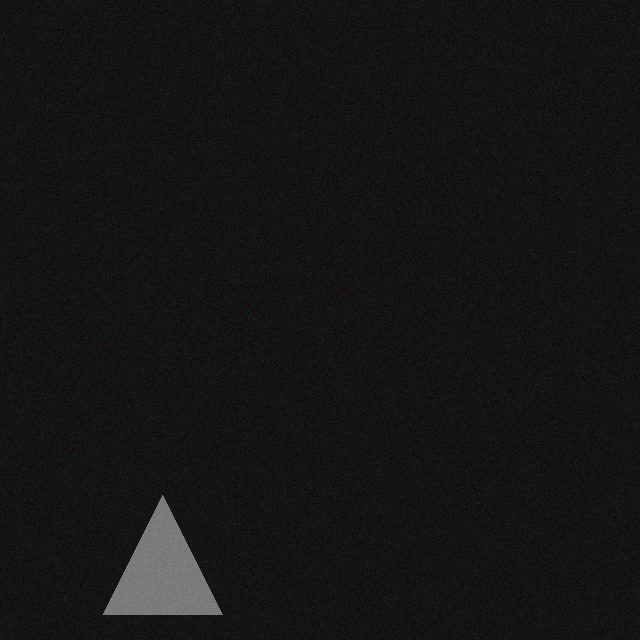triangle: (115, 503, 234, 622)
